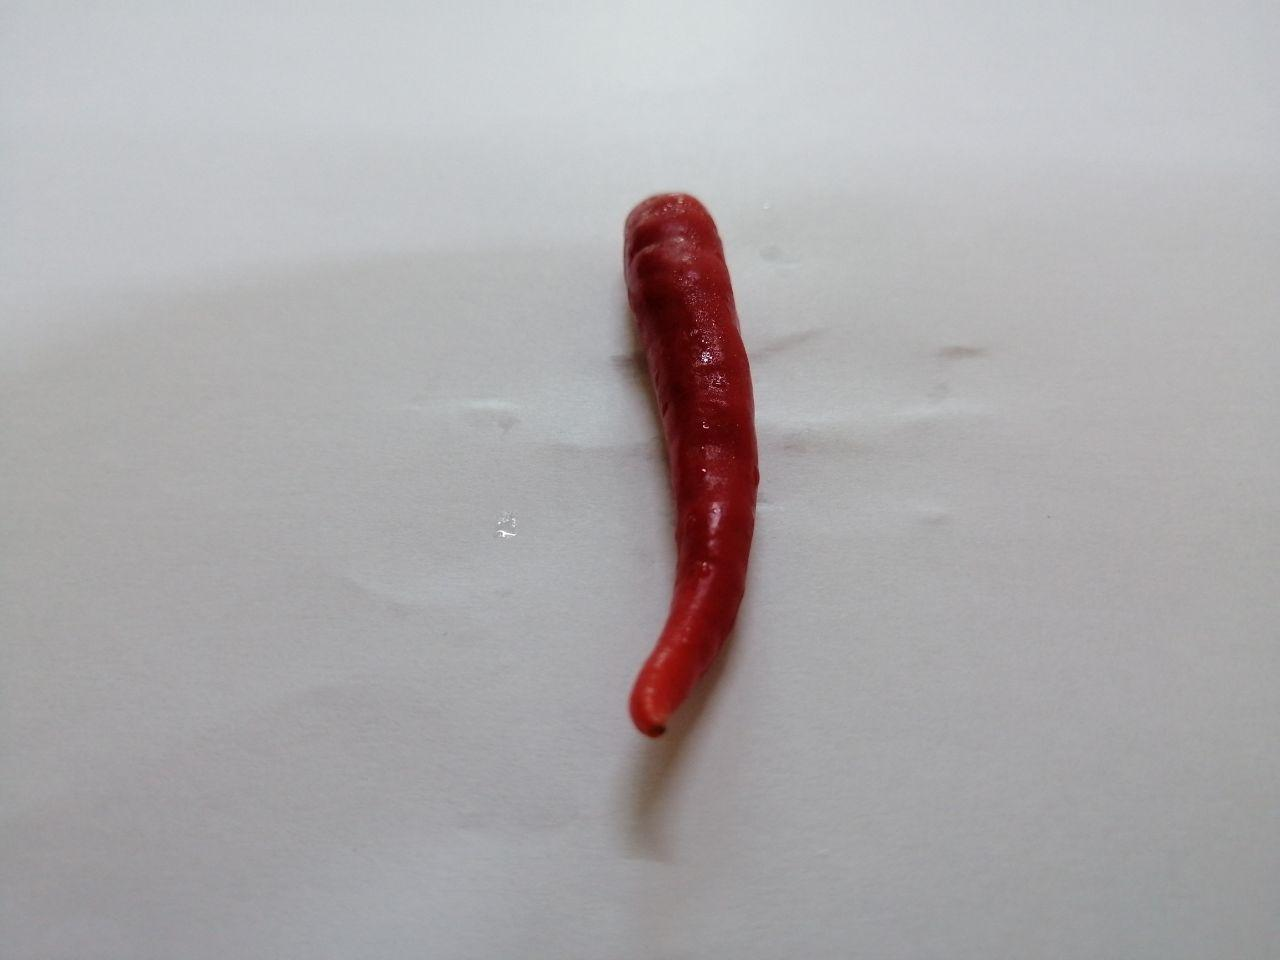lada merah: (584, 172, 790, 772)
